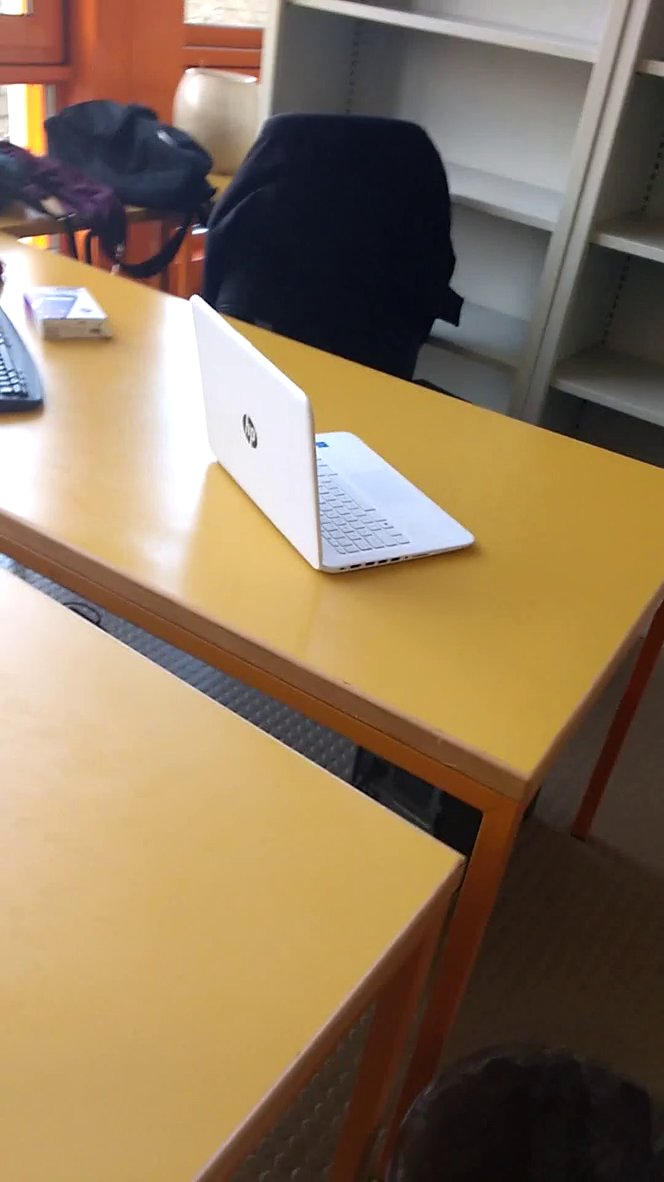bag: (40, 85, 214, 247)
chair: (203, 111, 486, 405)
laptop: (177, 285, 487, 586)
